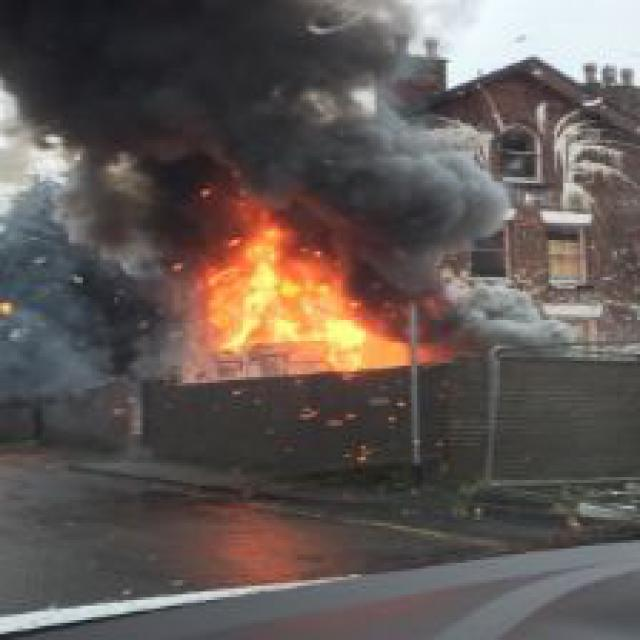fire: (171, 177, 446, 386)
